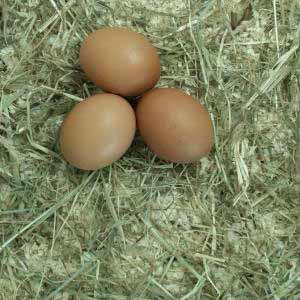egg: (57, 93, 136, 171), (137, 88, 214, 165), (79, 28, 161, 96)
